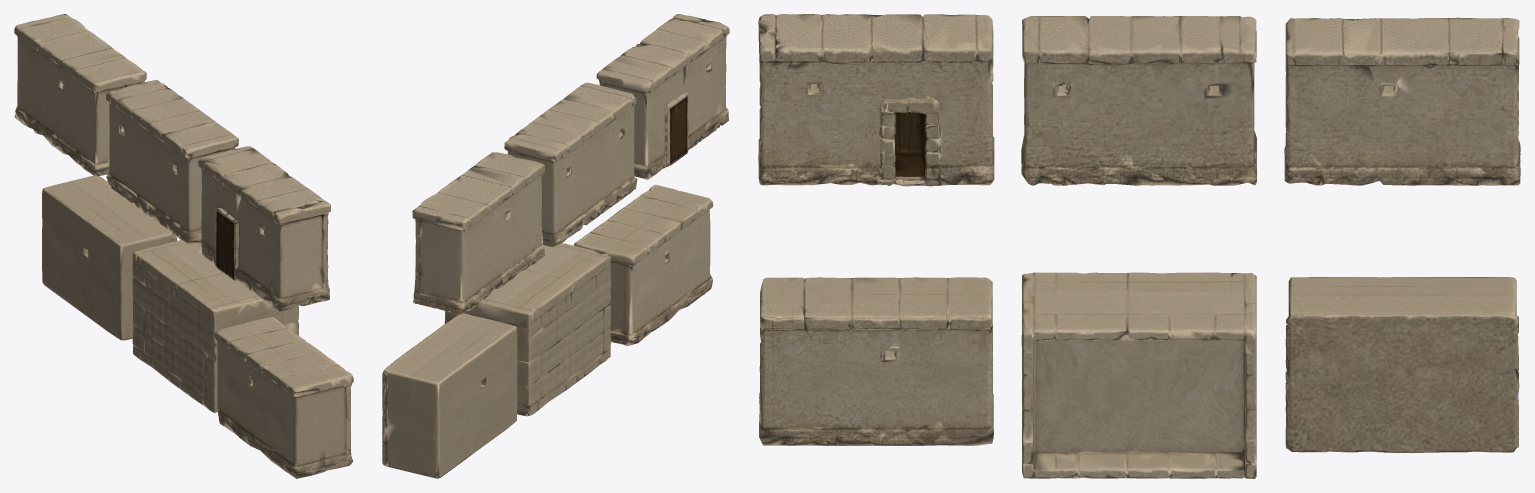
File: house_common_game.glb
The picture shows the model from 3 angles, left to right: view 1: azimuth 30°, elevation 25°; view 2: azimuth 150°, elevation 25°; view 3: azimuth 270°, elevation 25°; orthographic projection. The views are drawn at different scales.
Visible parts, largest first — view 1: tripo_node_b61f8baa-58ba-4a9e-8ad1-a5b878b89521; view 2: tripo_node_b61f8baa-58ba-4a9e-8ad1-a5b878b89521; view 3: tripo_node_b61f8baa-58ba-4a9e-8ad1-a5b878b89521.
Part boxes in pixels (box(x1,y1,x2,y2)): tripo_node_b61f8baa-58ba-4a9e-8ad1-a5b878b89521: box(14, 14, 353, 478); tripo_node_b61f8baa-58ba-4a9e-8ad1-a5b878b89521: box(382, 14, 729, 478); tripo_node_b61f8baa-58ba-4a9e-8ad1-a5b878b89521: box(758, 14, 1520, 478).
Size of the model in its own units: 0.2417 by 0.5513 by 0.9792.
Materials: 1 (1 with a texture image).
